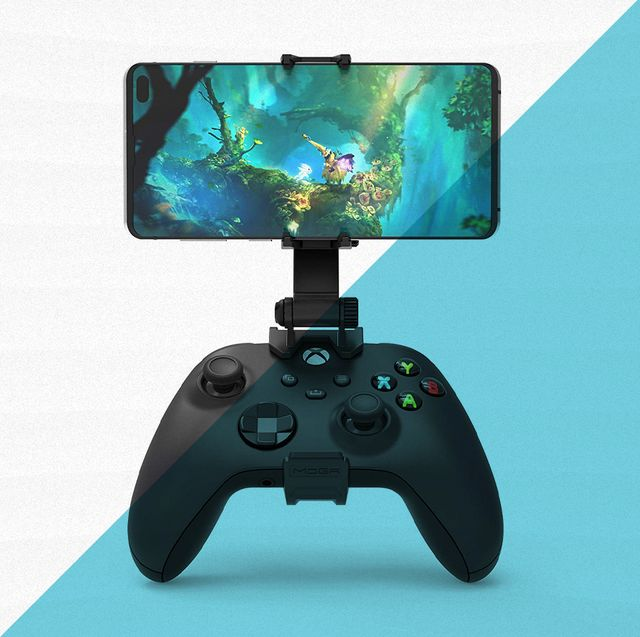controller: (127, 340, 506, 583)
